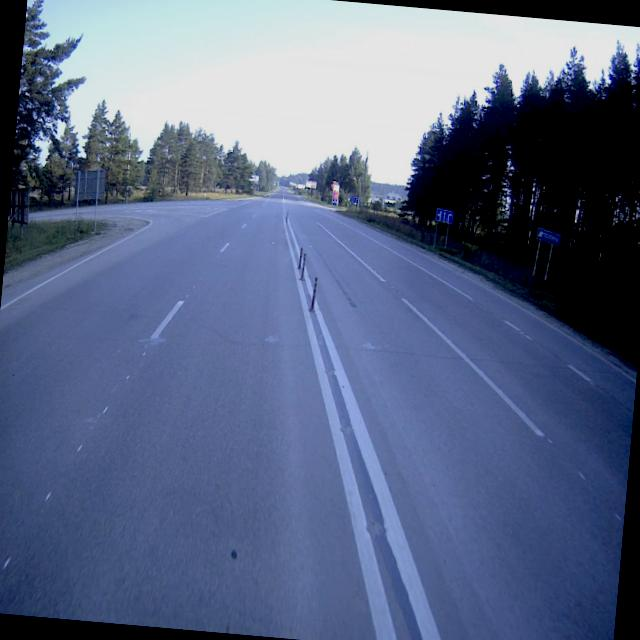road: (0, 189, 635, 640), (31, 210, 76, 218), (78, 207, 95, 216)
